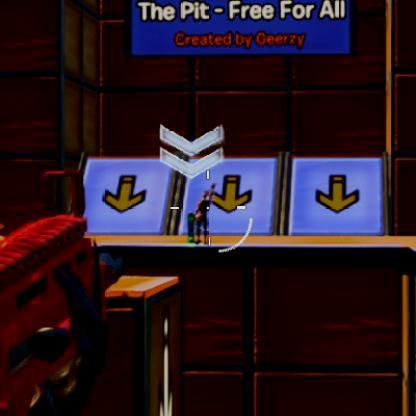person: (199, 191, 211, 241)
